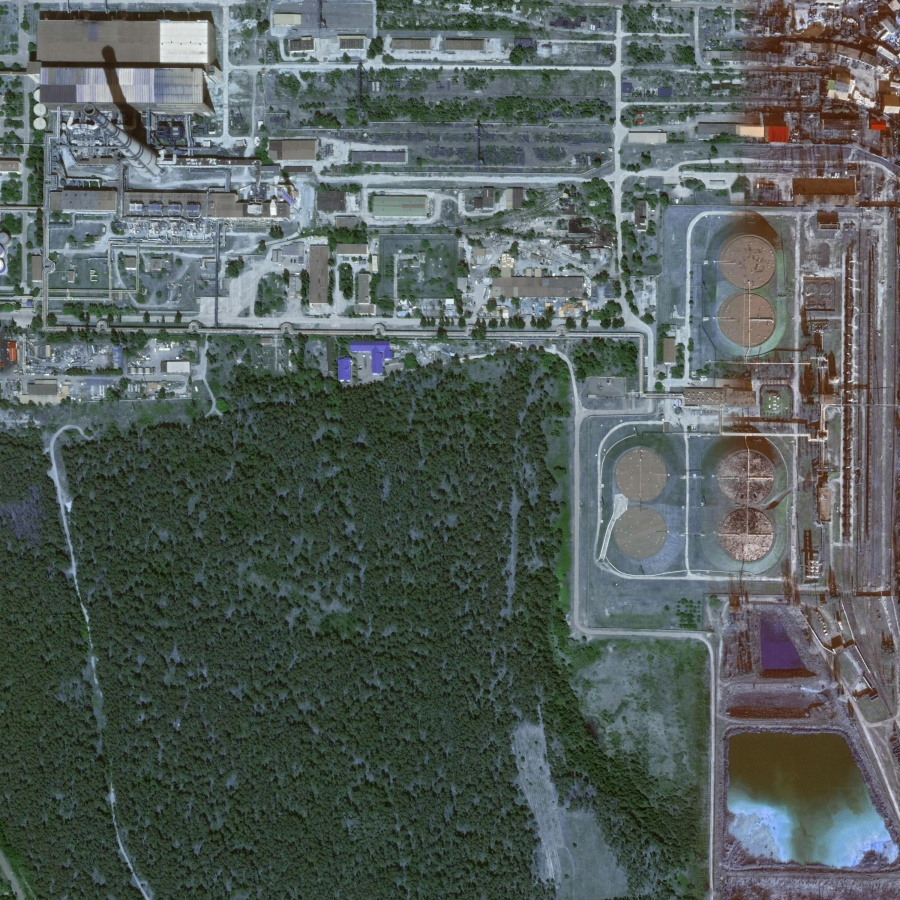PowerPlant: (574, 223, 822, 586)
